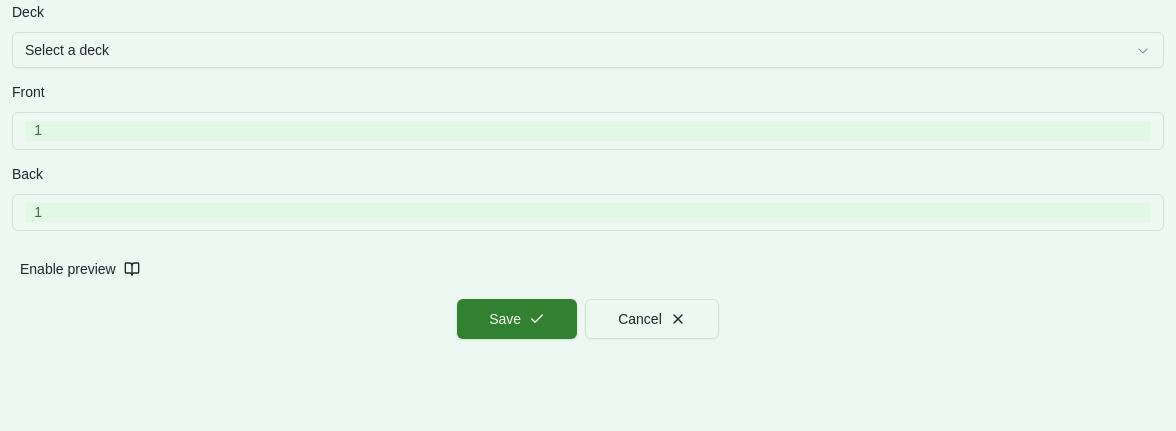
Scenario: CardForm › given no form input › when save button is clicked › should report missing values
Click the button "Save" at [517, 319], box [457,299,577,339]
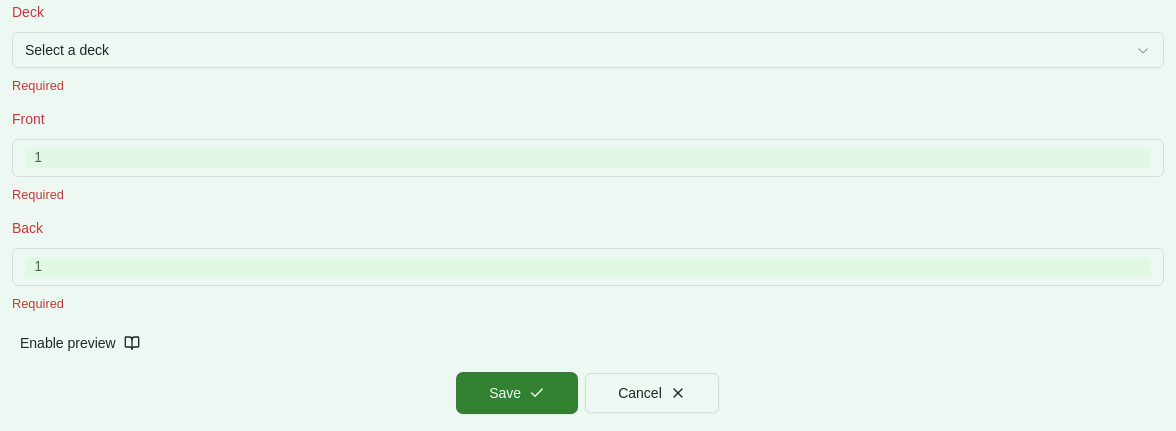
expect the text "Required" is shown 3 times: met, box [12,78,64,93]; [12,187,64,202]; [12,296,64,311]
